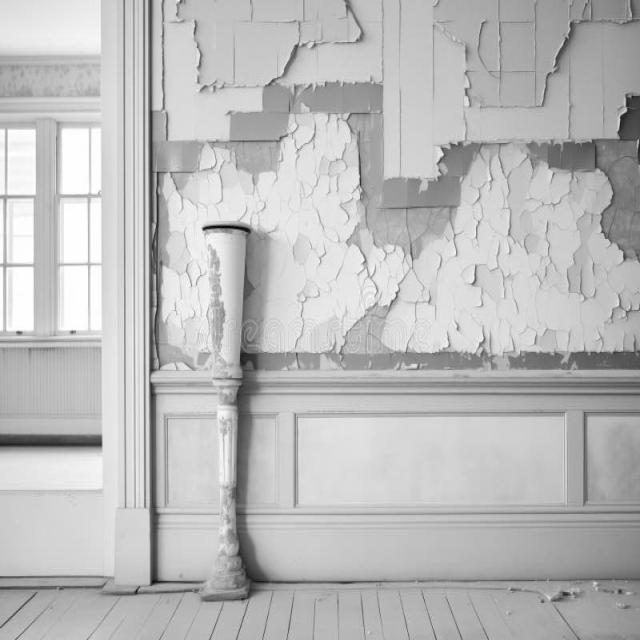peeling paint: (142, 0, 640, 389)
